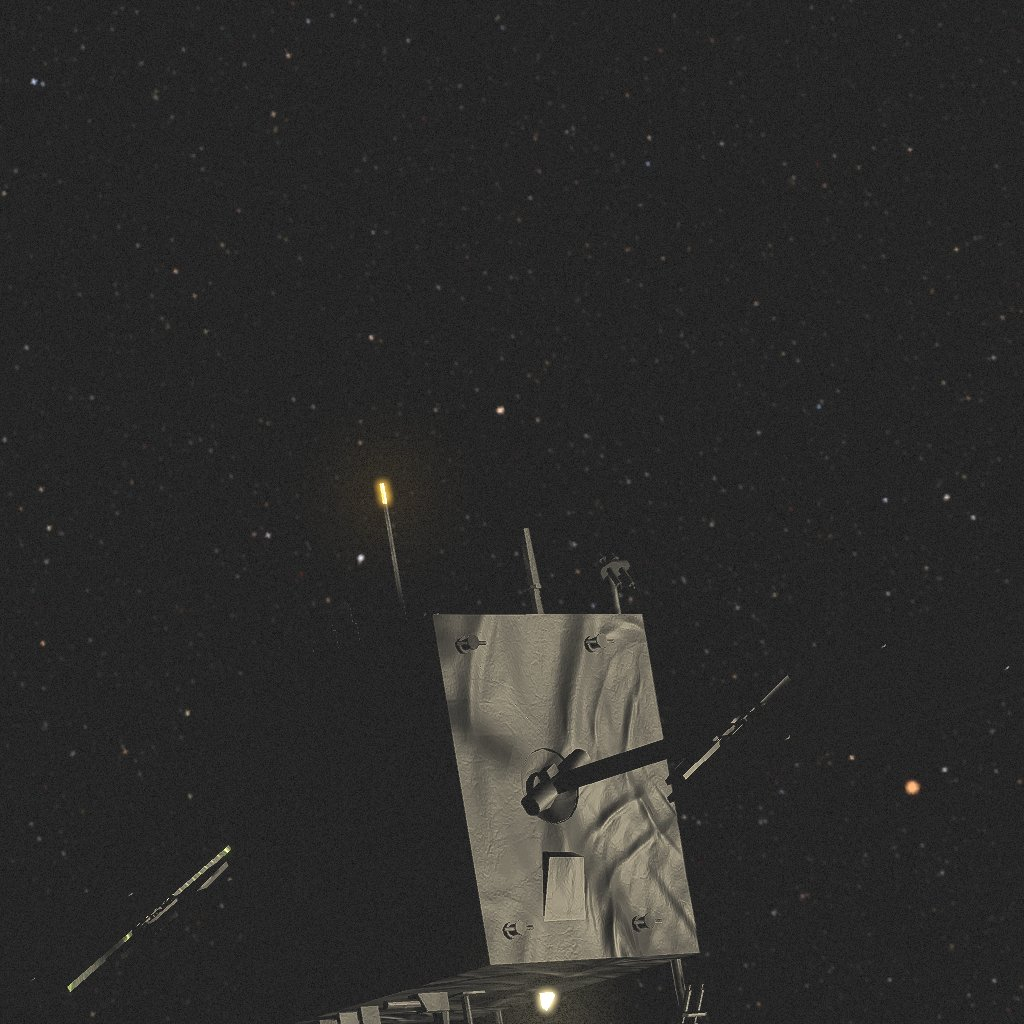smart_1: (0, 484, 1024, 1024)
